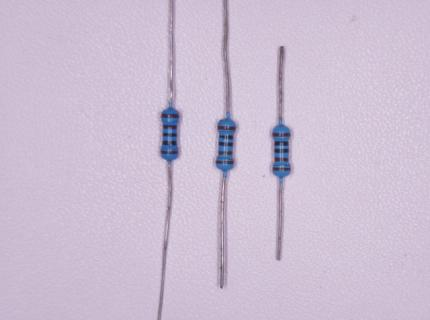Black band: (162, 140, 177, 146), (274, 141, 289, 146), (274, 148, 289, 153), (219, 142, 234, 147), (219, 135, 233, 140), (162, 133, 178, 137)
Brown band: (217, 125, 236, 131), (161, 113, 180, 118), (215, 160, 234, 165), (272, 132, 291, 137), (218, 151, 233, 156), (161, 151, 179, 155), (273, 167, 291, 171), (163, 125, 177, 130), (274, 157, 288, 162)
